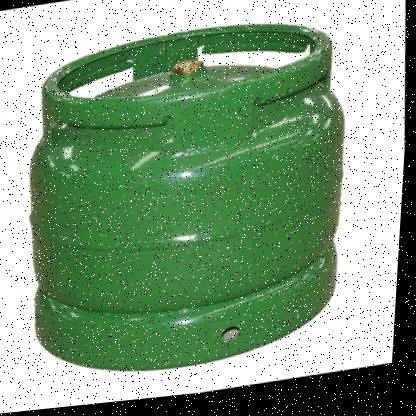gas-tank: (6, 2, 385, 402)
